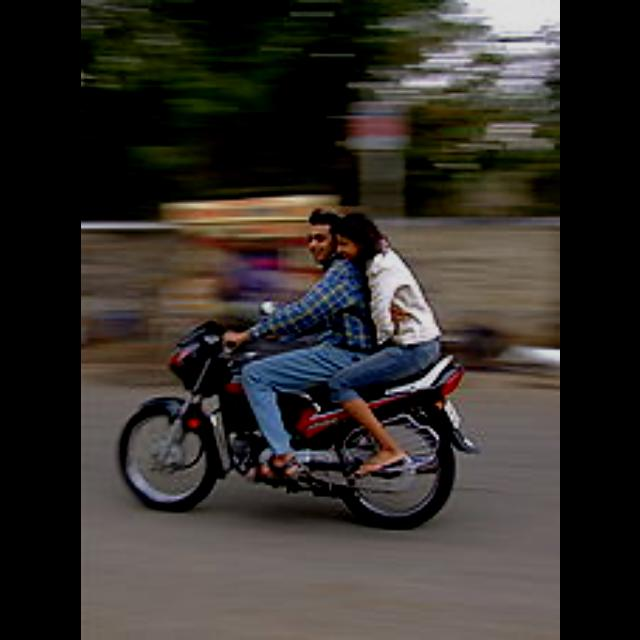Without Helmet: (294, 197, 340, 265)
